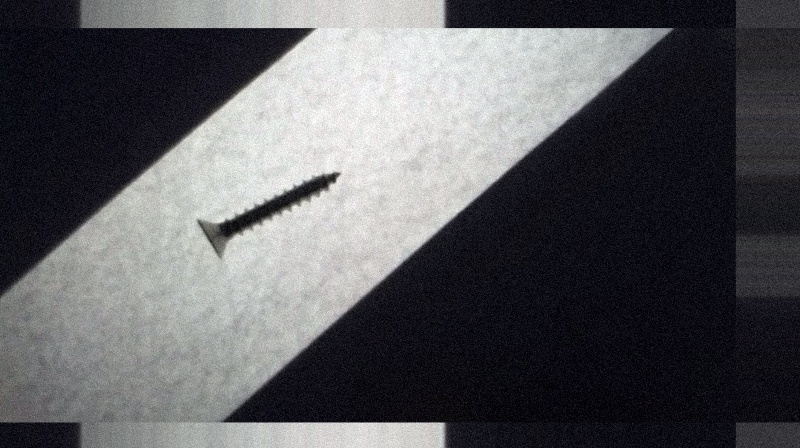S001: (192, 169, 344, 261)
